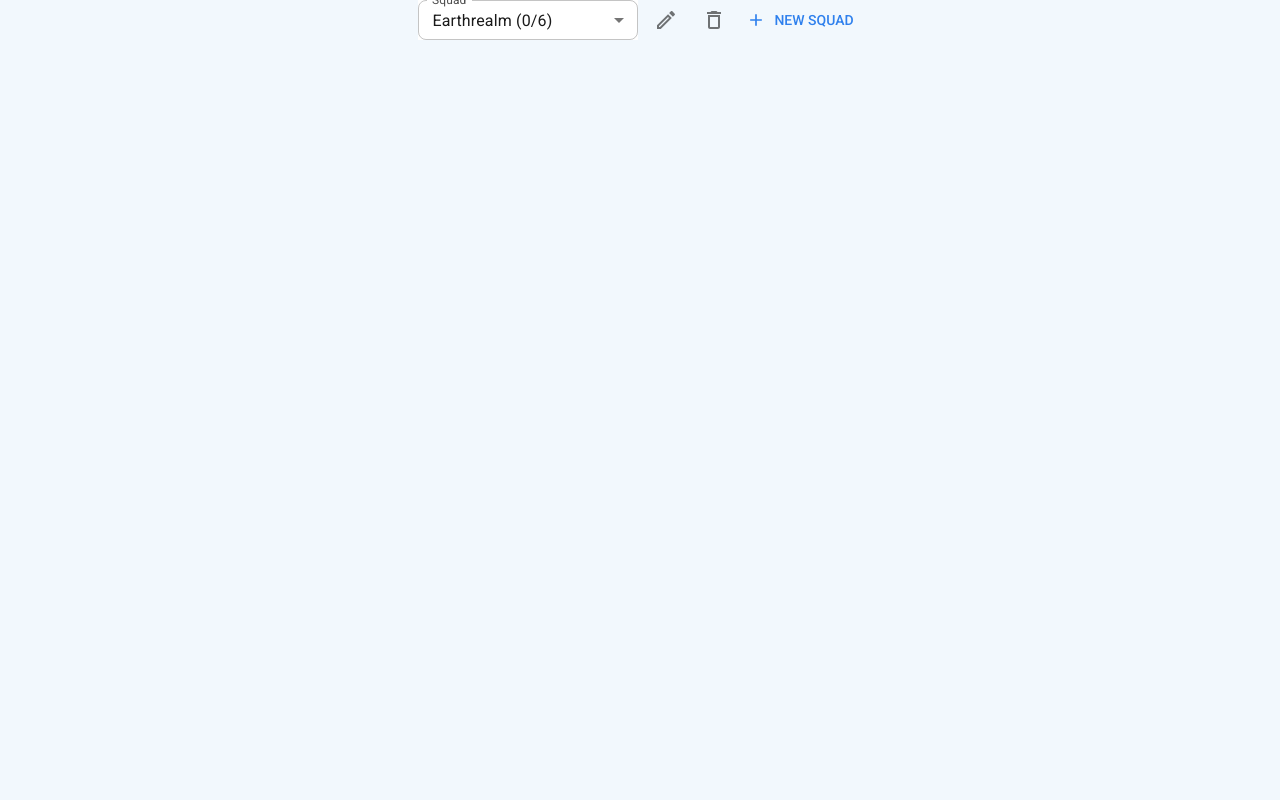
SquadPicker › renames the selected squad
Click the button named "Rename squad": (666, 20) [646,0,686,40]
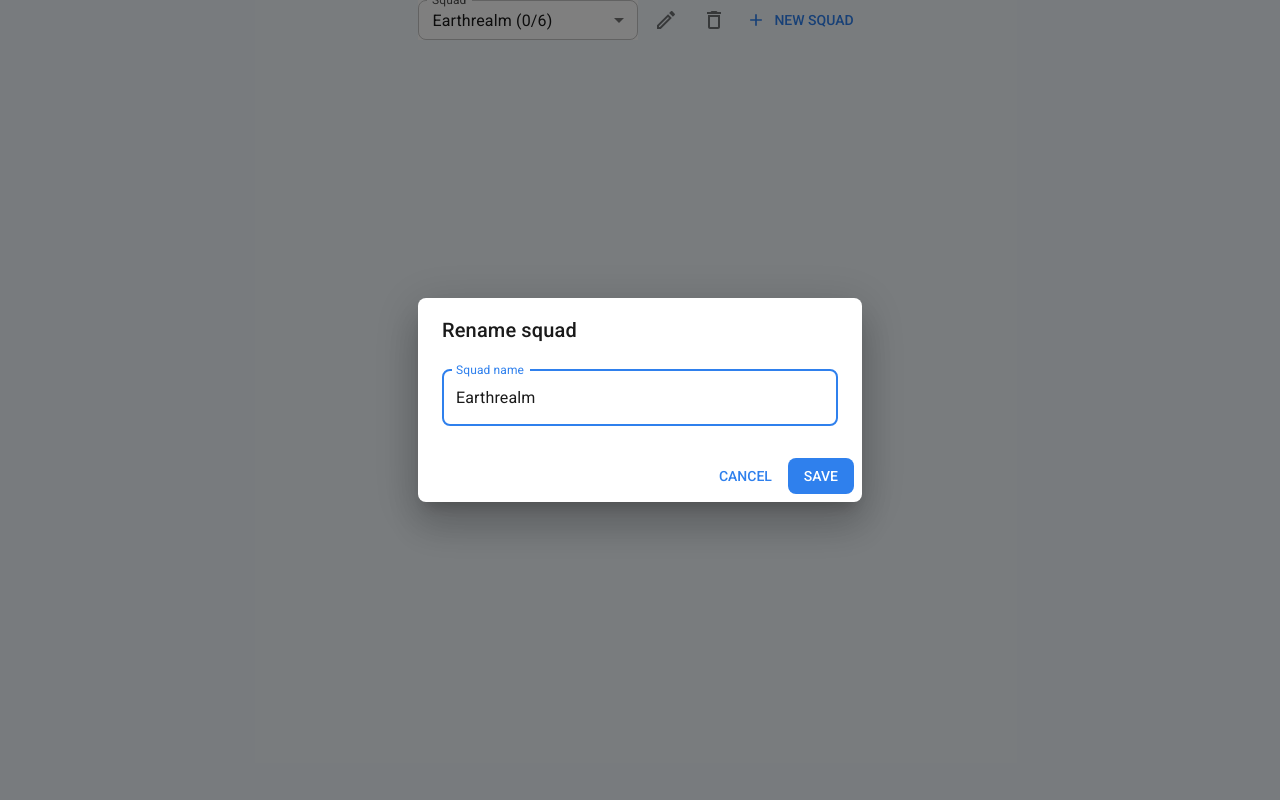
Replace the text in the field labelled "Squad name" with "Netherrealm": (640, 398) [442,370,838,426]
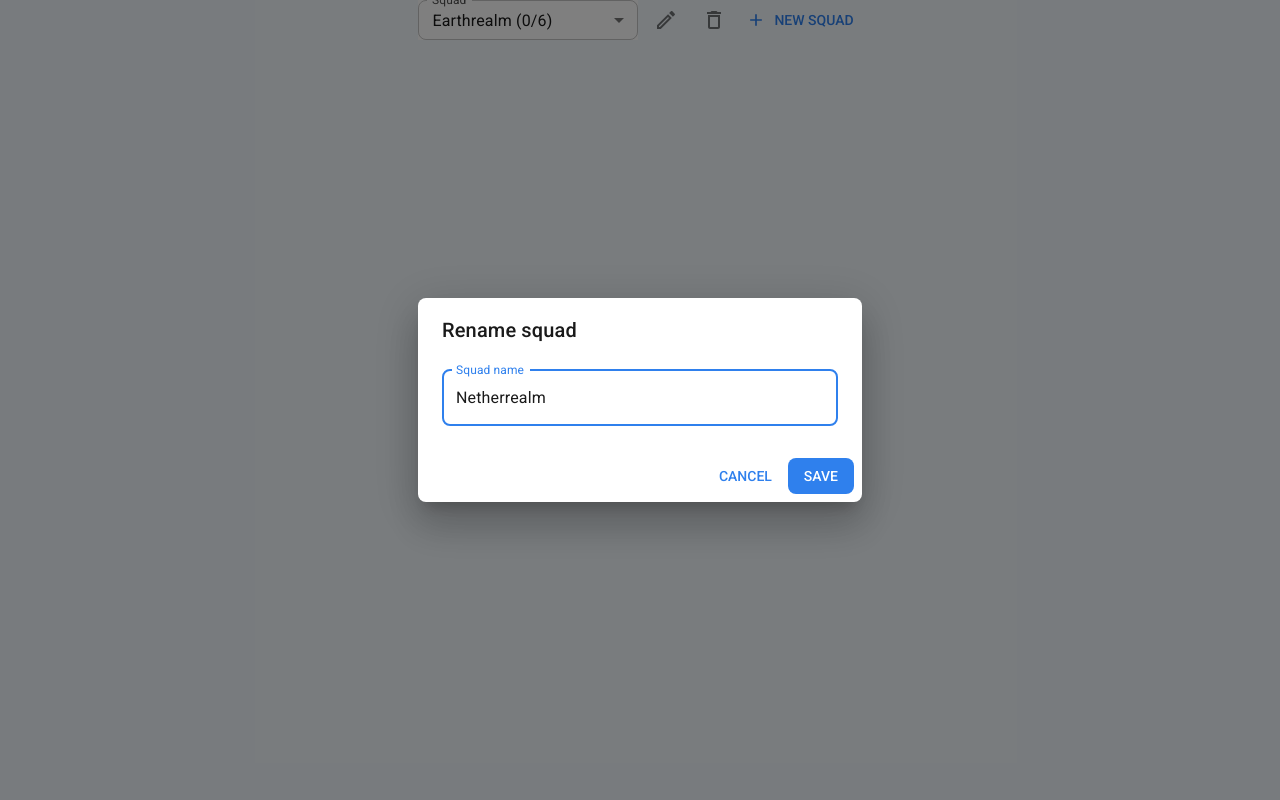
Click the button "Save": (821, 476) [788,458,854,494]
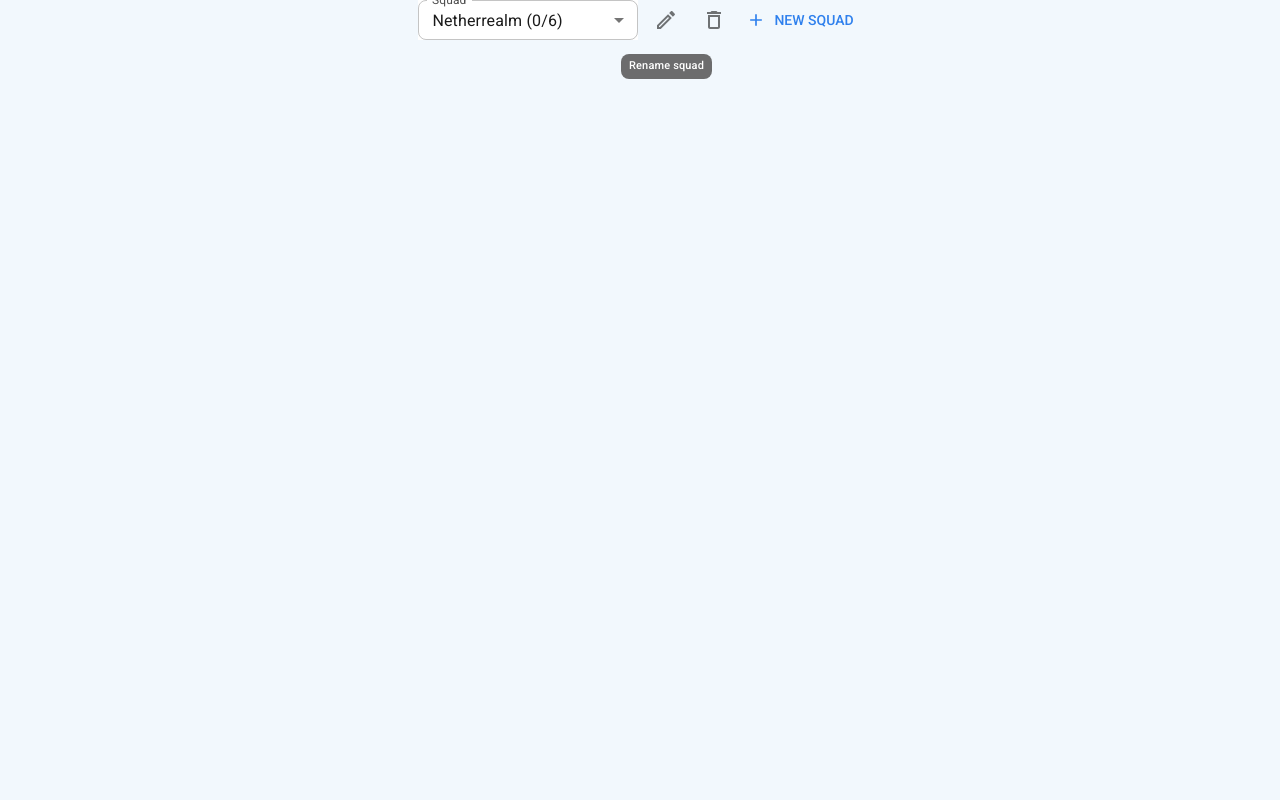
Now the dropdown "Netherrealm (0/6)" is shown, box [432,10,563,30]
